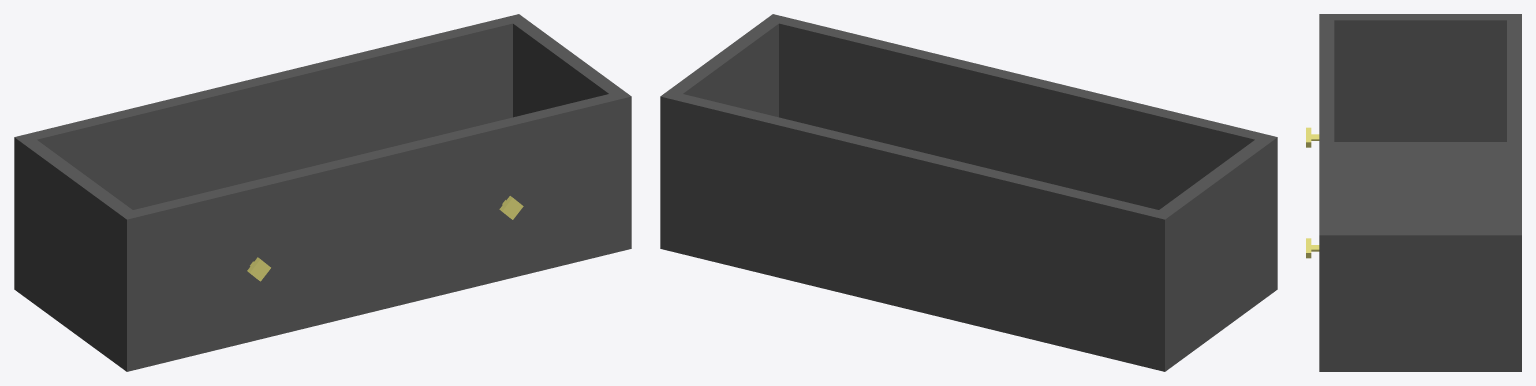
Rendered from Itr_Wardrobe1_Drawer_04.FBX.
3 views of the same model, side by side, from view 1: azimuth 30°, elevation 25°; view 2: azimuth 150°, elevation 25°; view 3: azimuth 270°, elevation 25° (orthographic). The views are drawn at different scales.
Visible parts, largest first — view 1: Itr_Wardrobe1_Drawer_04; view 2: Itr_Wardrobe1_Drawer_04; view 3: Itr_Wardrobe1_Drawer_04.
Part boxes in pixels (<box>): Itr_Wardrobe1_Drawer_04: <box>14,14,631,371</box>; Itr_Wardrobe1_Drawer_04: <box>660,14,1277,371</box>; Itr_Wardrobe1_Drawer_04: <box>1306,14,1521,371</box>.
Bounding box in the file's own units: 40.74 × 11.75 × 16.8.
